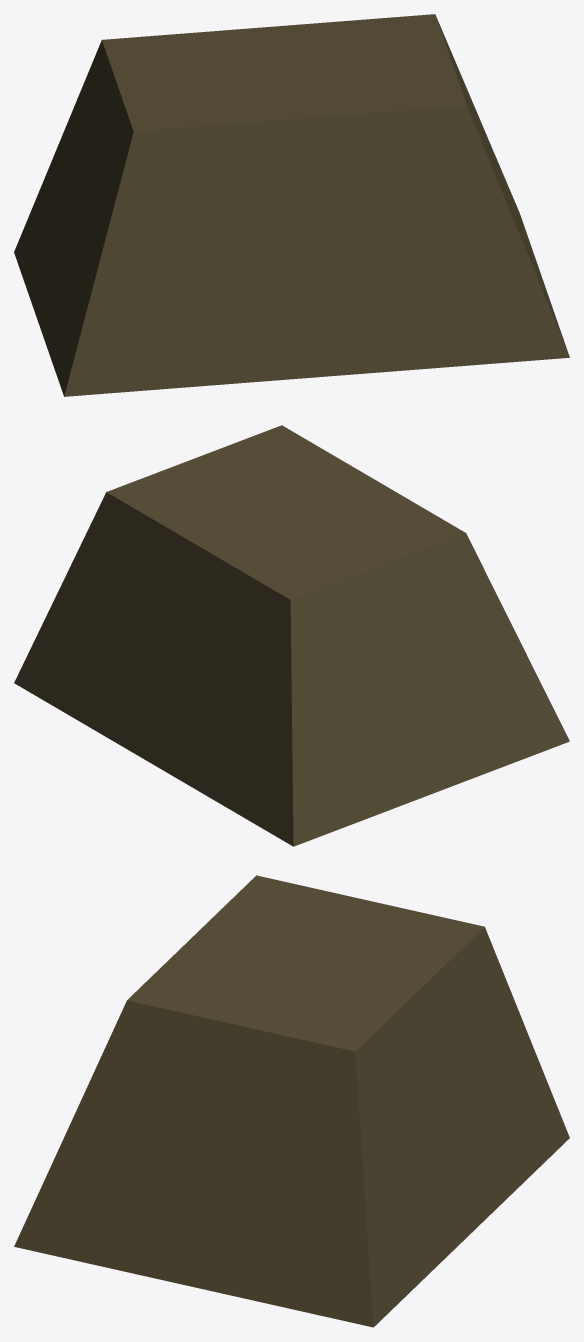
File: Tree3Stump.fbx
The picture shows the model from 3 angles, top to bottom: view 1: azimuth 30°, elevation 25°; view 2: azimuth 150°, elevation 25°; view 3: azimuth 270°, elevation 25°; orthographic projection. The views are drawn at different scales.
Visible parts, largest first — view 1: pasted__pasted__pasted__pCube1; view 2: pasted__pasted__pasted__pCube1; view 3: pasted__pasted__pasted__pCube1.
Boxes of the visible parts, <box> form: pasted__pasted__pasted__pCube1: <box>14,14,569,396</box>; pasted__pasted__pasted__pCube1: <box>14,425,569,846</box>; pasted__pasted__pasted__pCube1: <box>14,875,569,1327</box>.
Size of the model in its own units: 4.42 by 1.97 by 3.94.
